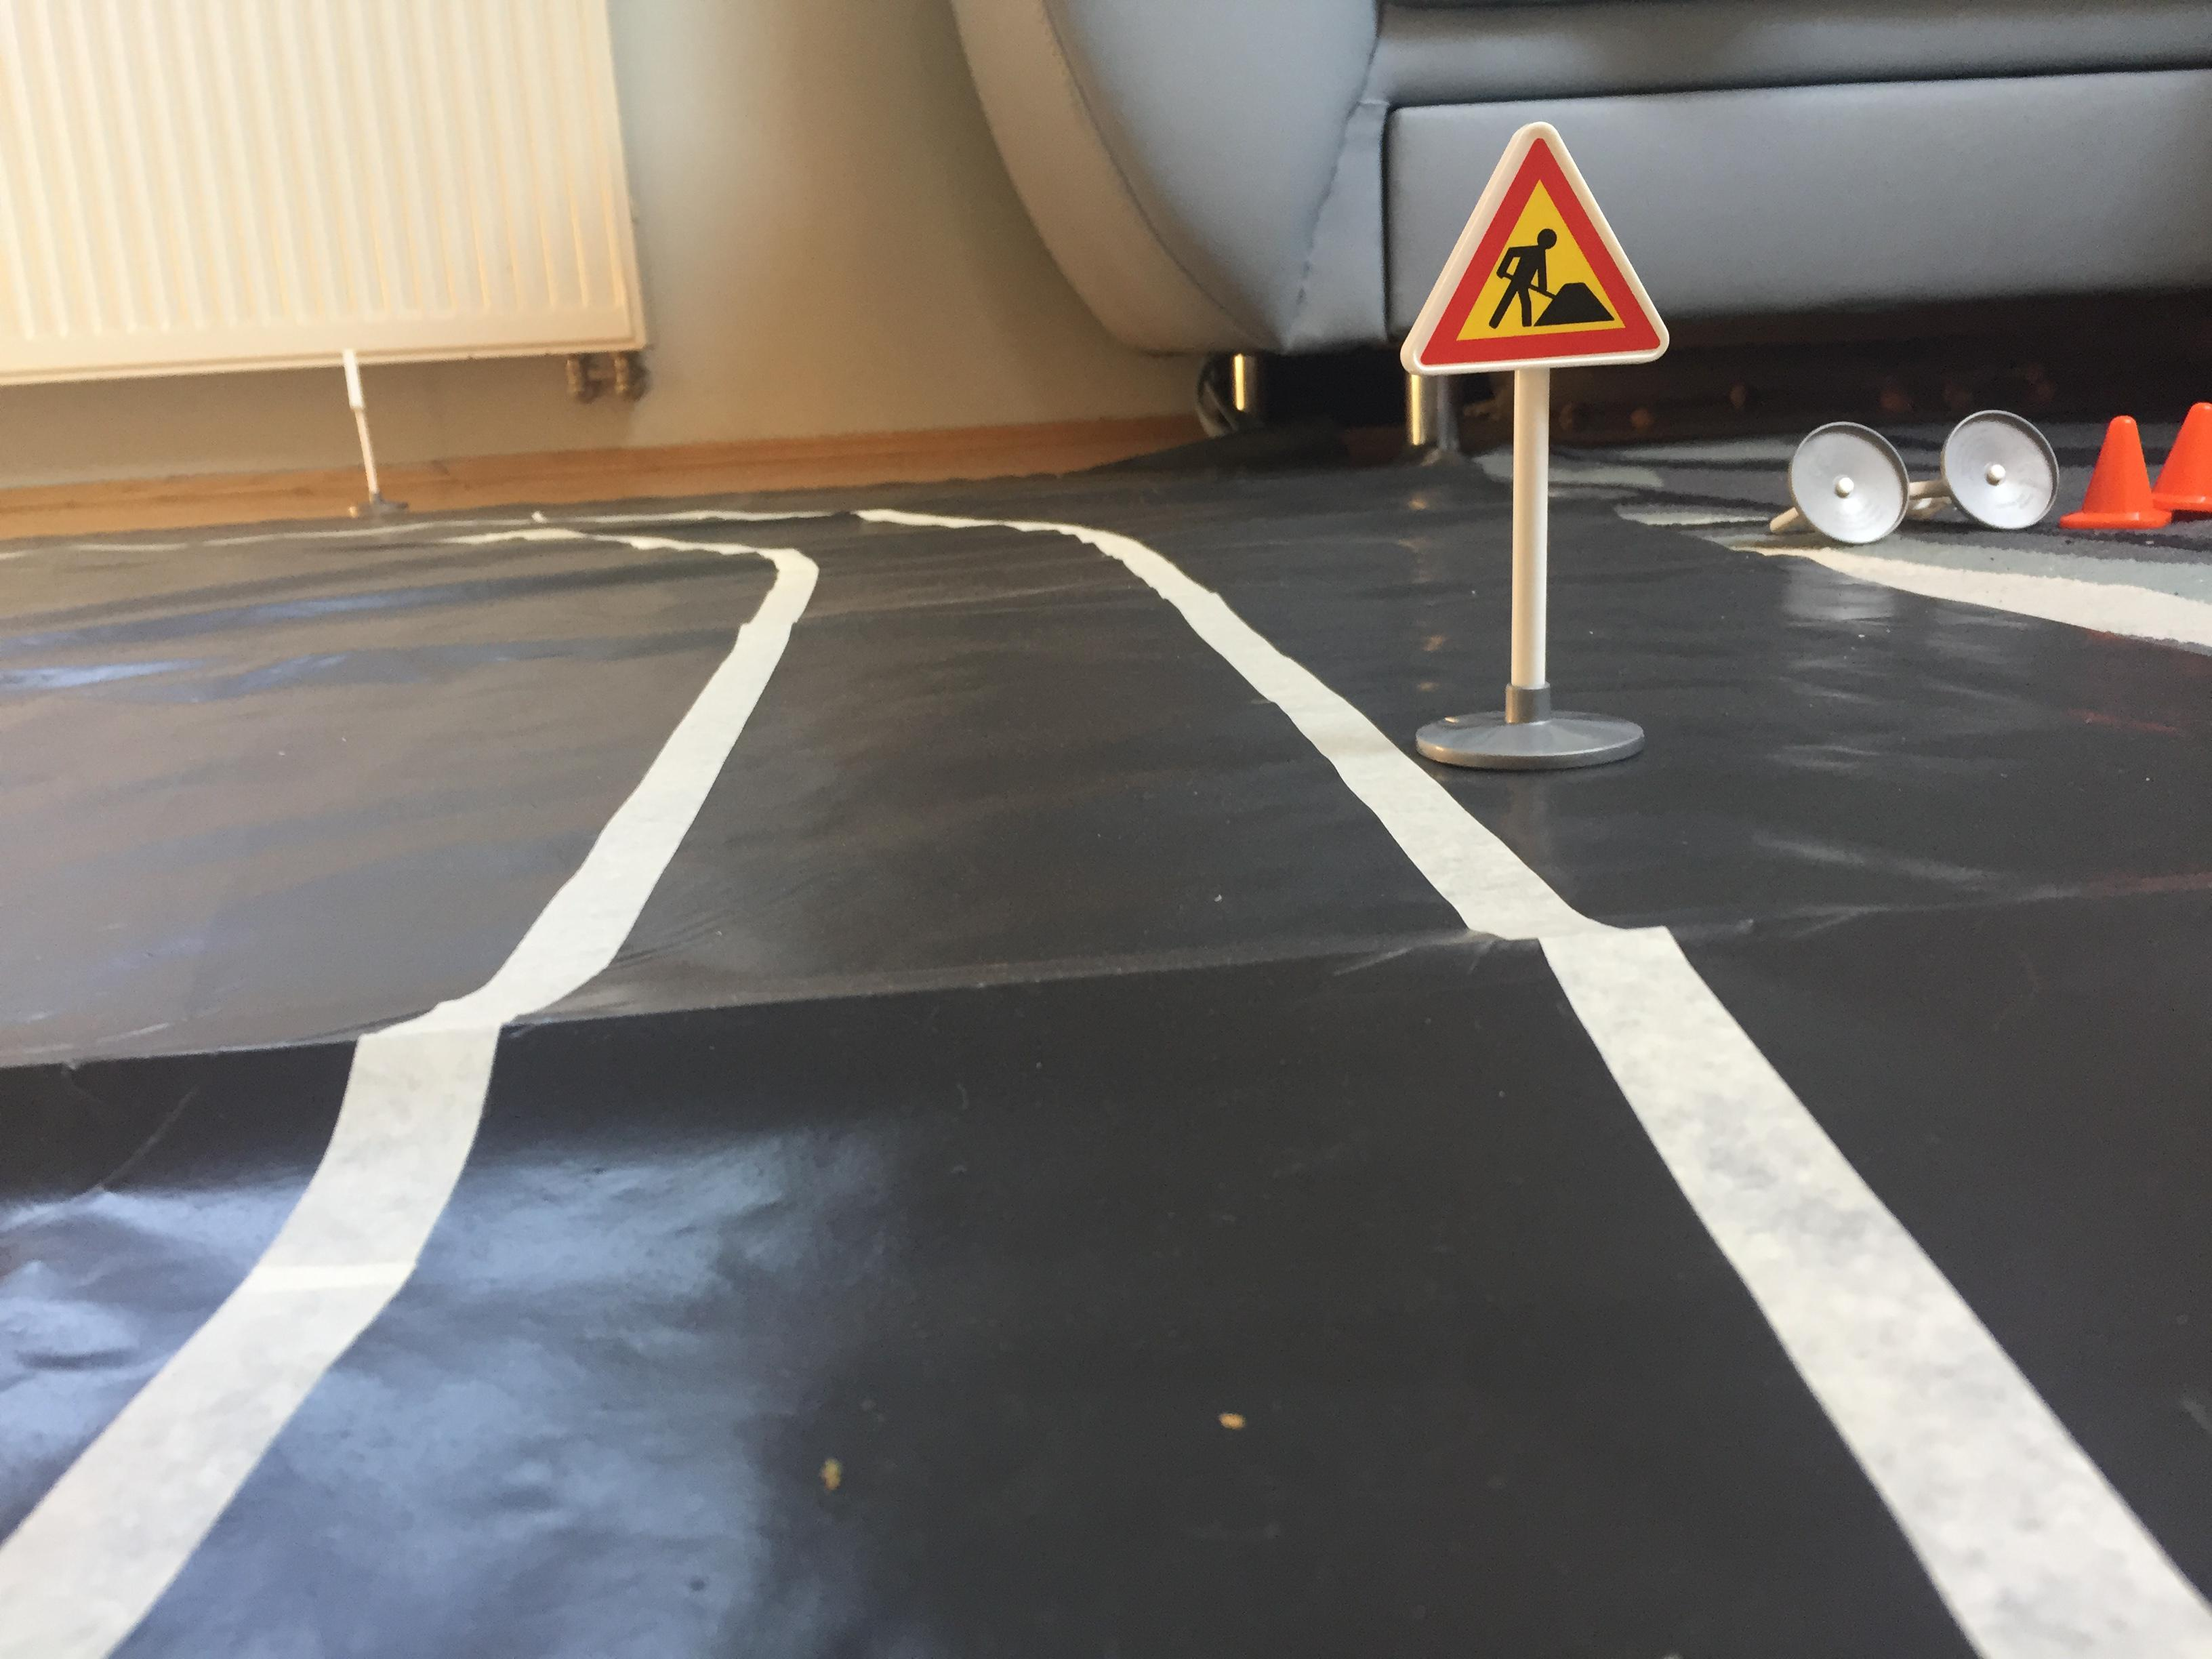work: (1390, 113, 1679, 390)
